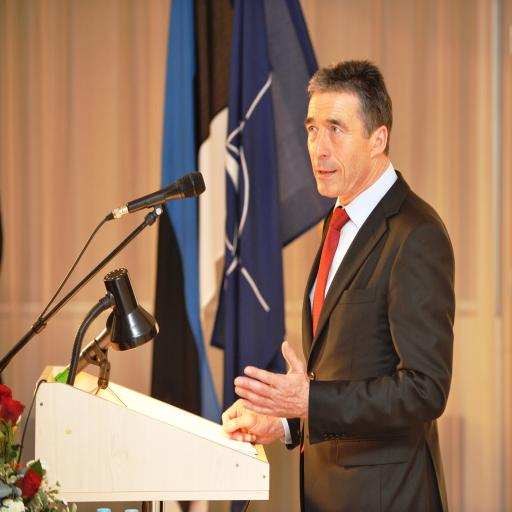Person: (224, 69, 480, 486)
no_gloves: (230, 334, 316, 403), (218, 373, 288, 427)
no_goggle: (302, 131, 364, 155)
no_helmet: (305, 74, 390, 121)
none: (314, 208, 450, 428)
